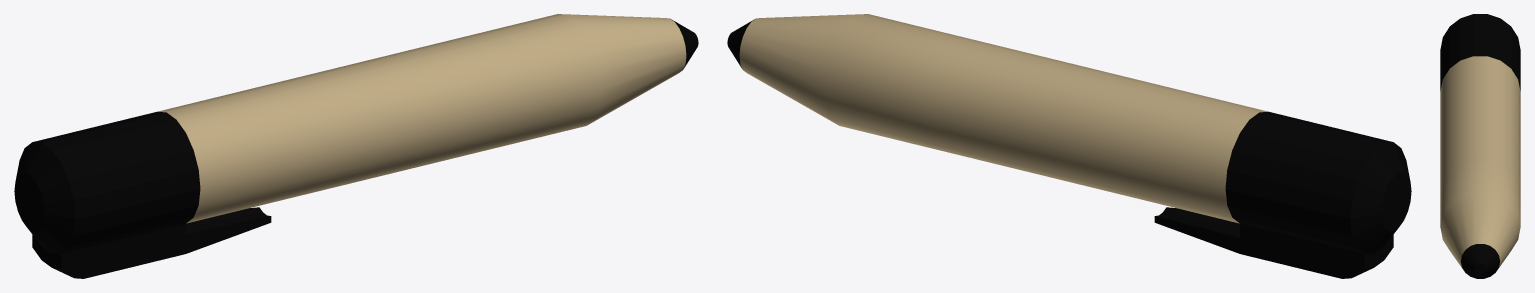
Rendered from Marker.fbx.
3 views of the same model, side by side, from view 1: azimuth 30°, elevation 25°; view 2: azimuth 150°, elevation 25°; view 3: azimuth 270°, elevation 25° (orthographic). The views are drawn at different scales.
Visible parts, largest first — view 1: Cylinder001; view 2: Cylinder001; view 3: Cylinder001.
Part boxes in pixels (x1,y1,x2,y2): Cylinder001: (14, 14, 698, 278); Cylinder001: (727, 14, 1411, 278); Cylinder001: (1440, 14, 1520, 278).
Bounding box in the file's own units: 39.84 × 7.65 × 6.
